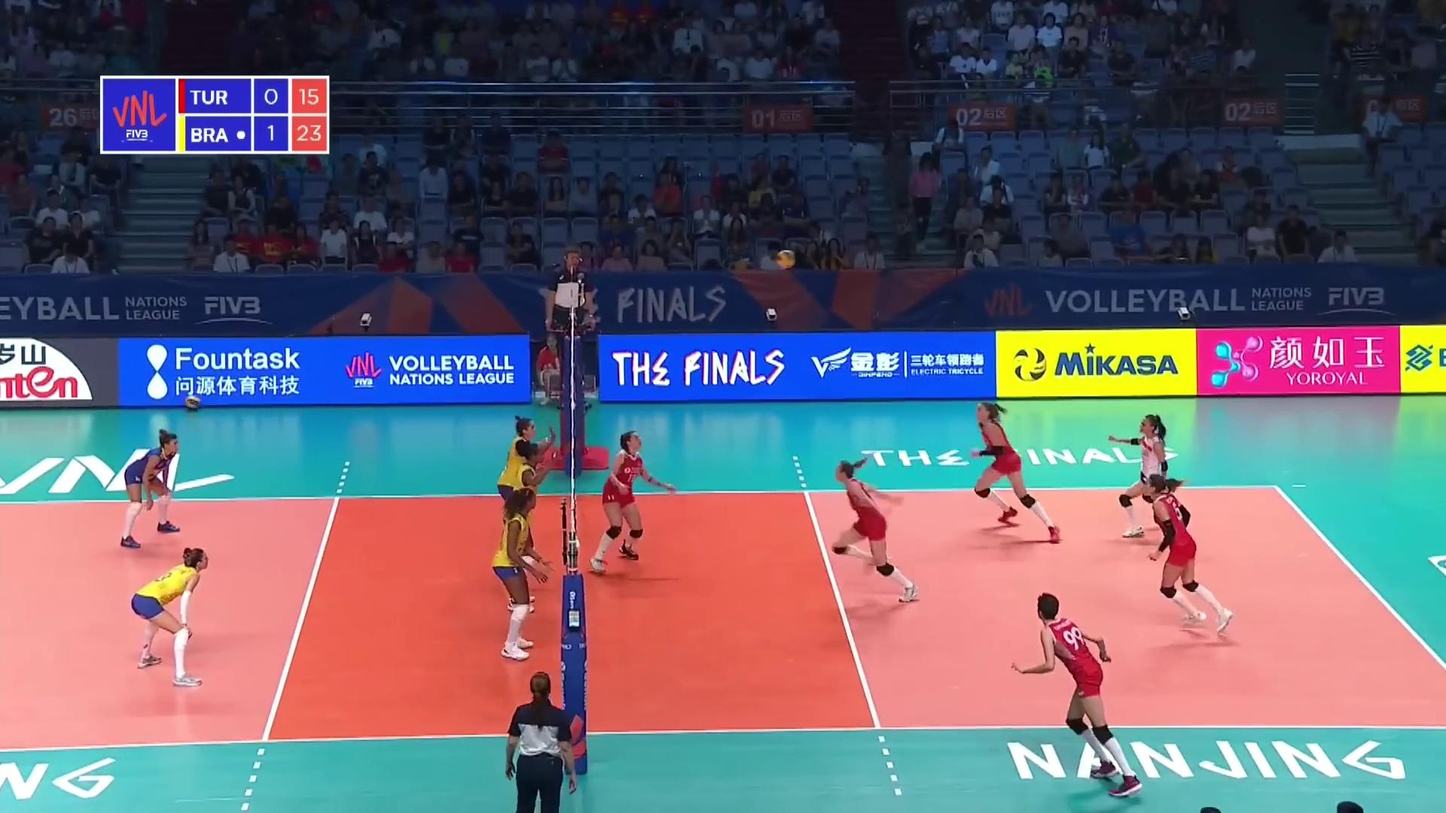player: (1016, 595, 1144, 796), (1143, 475, 1237, 636), (971, 401, 1063, 543), (589, 430, 676, 574), (830, 461, 916, 603), (130, 549, 211, 685), (490, 487, 548, 659), (508, 439, 560, 613), (1108, 416, 1177, 544), (120, 432, 179, 547), (498, 415, 537, 561)
refree: (508, 669, 579, 811), (548, 248, 592, 390)
